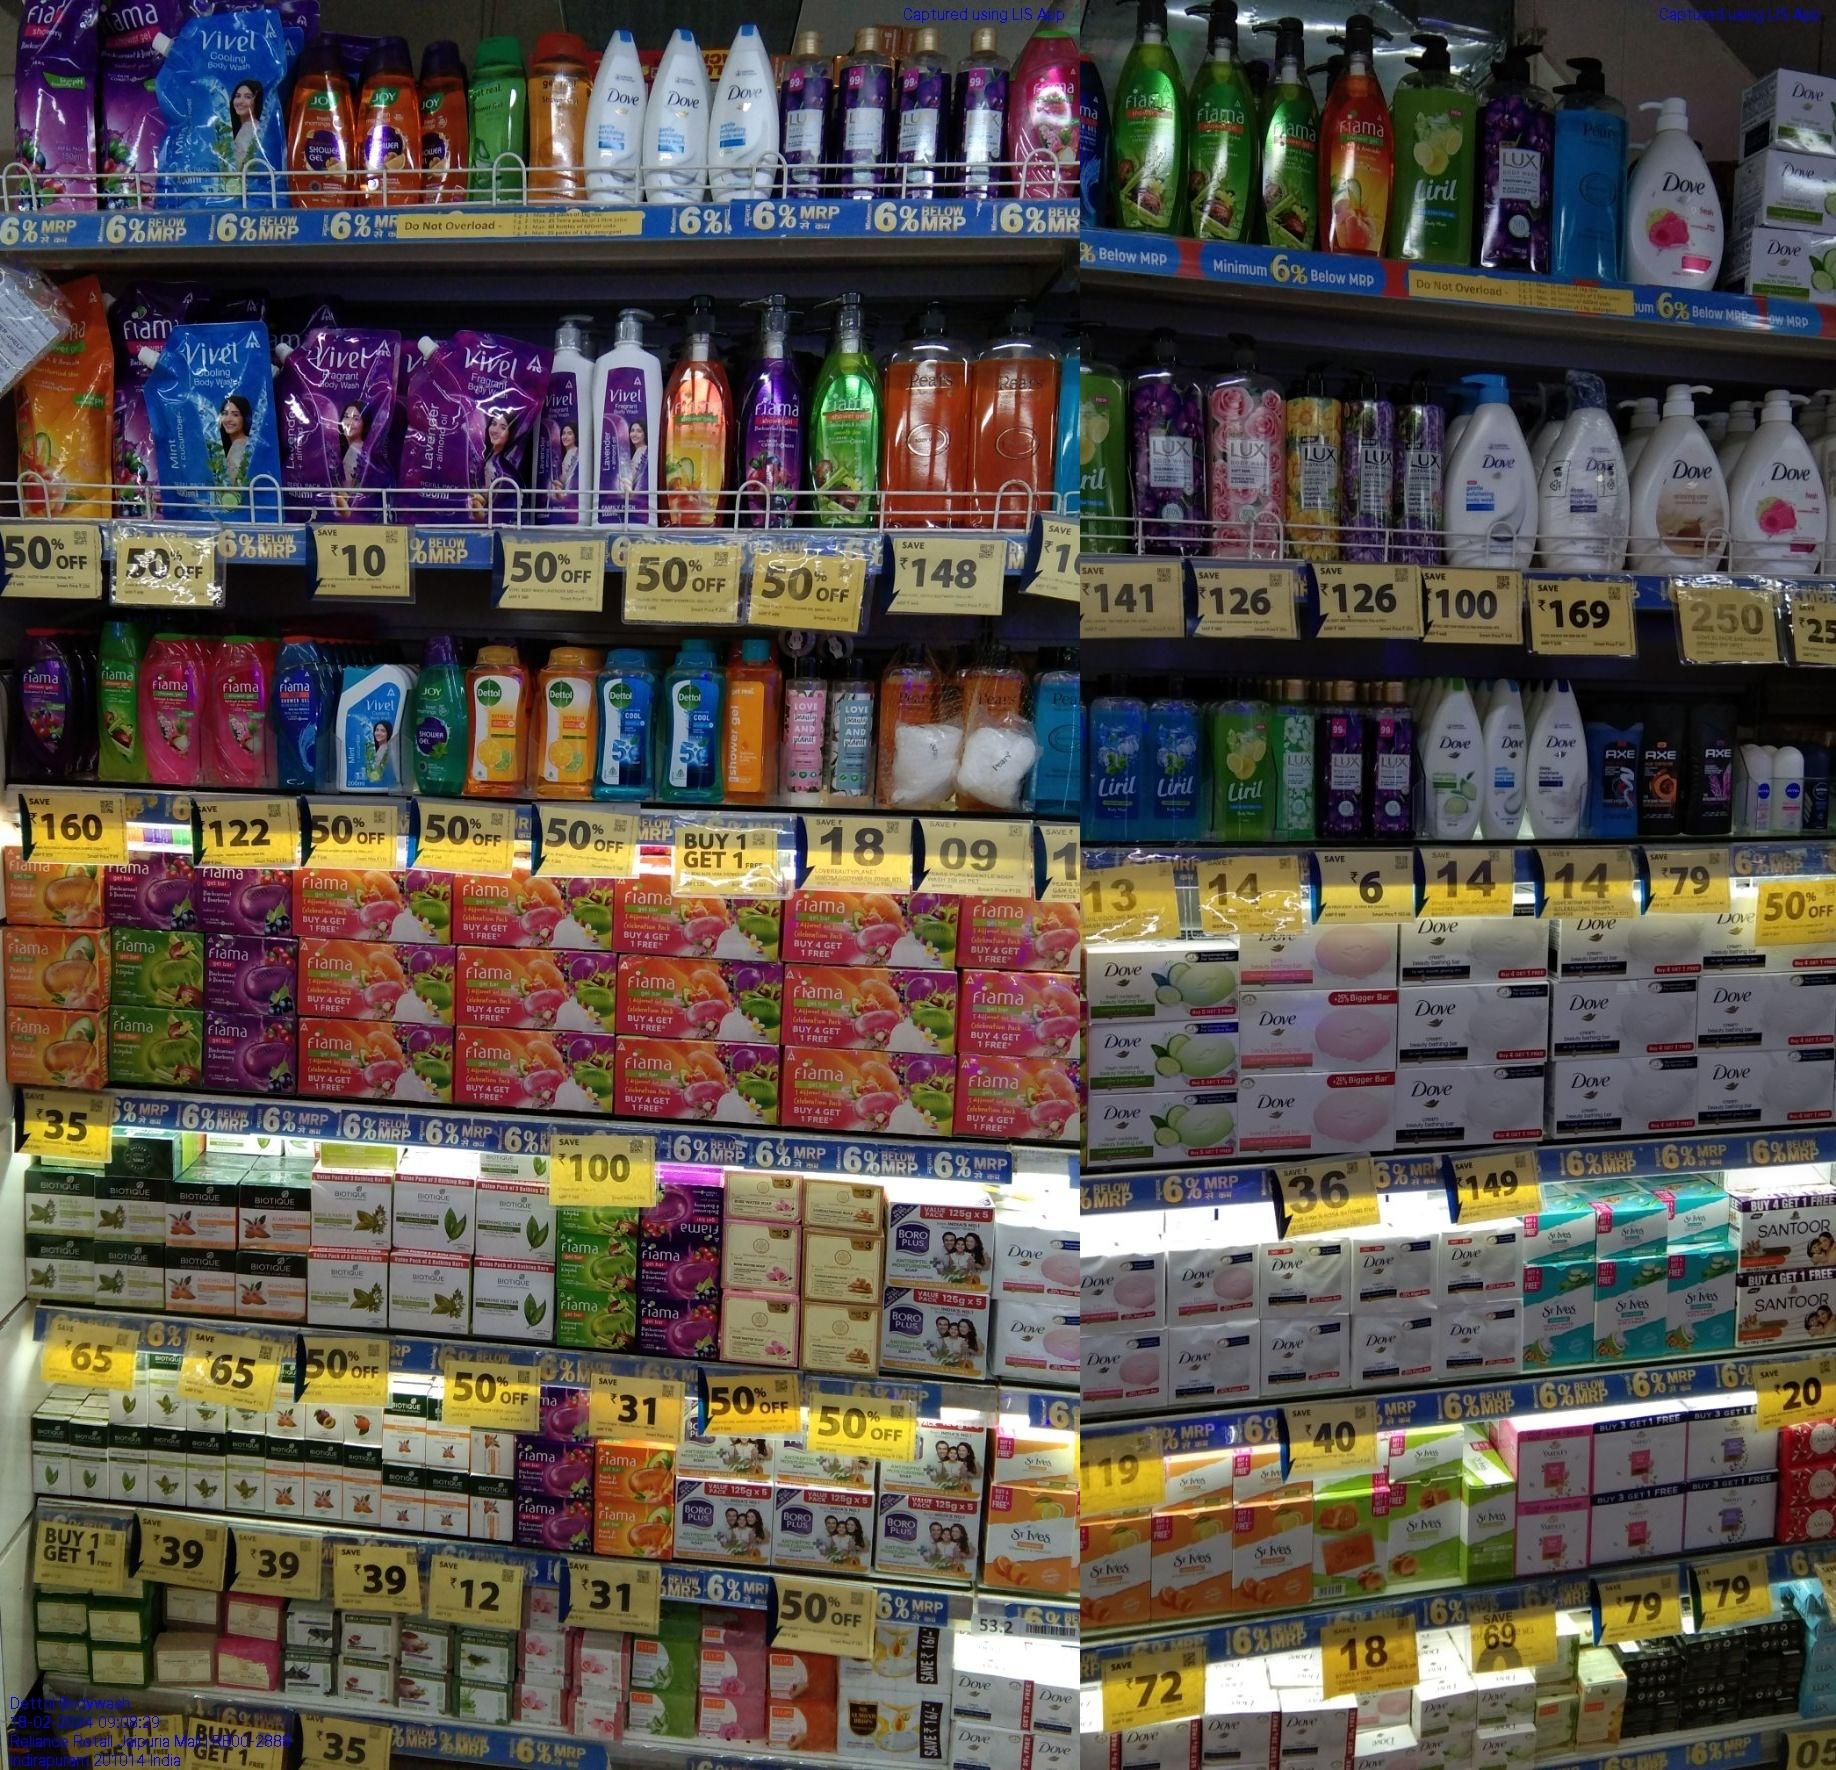Dettol_Bodywash_Cool: (661, 641, 723, 798), (598, 646, 657, 798)
Dettol_Bodywash_Refresh: (529, 644, 595, 800), (469, 642, 523, 793)
Dove_Deep_Moisture_Body_Wash_250ML: (711, 20, 777, 197), (1529, 675, 1584, 837)
Dove_Gentle_Exfoliating_Body_Wash_250ML: (649, 21, 708, 202), (585, 25, 643, 208), (1484, 678, 1528, 839)
Dove_Refreshing_Body_Wash_250ML: (1428, 677, 1482, 837)
Fiama_Shower_Gel_Lemongrass_and_Jojoba_250ML: (97, 616, 141, 782)
Fiama_Shower_Gel_Patchouli_and_Macadamia_250ML: (1015, 31, 1075, 195), (207, 636, 270, 787), (144, 634, 200, 782)
Get_Real_Shower_Gel_Moisturising_Glycerin_300ML: (529, 34, 580, 203)
Joy_Shower_Gel_Mandarin_and_Lemongrass_250ML: (293, 39, 354, 206), (361, 33, 418, 205), (423, 38, 469, 205)
Joy_Shower_Gel_Mint_and_Eucalyptus_250ML: (415, 634, 466, 793)
Liril_Cooling_Mint_Body_Wash_250ML: (1144, 683, 1202, 839), (1092, 675, 1139, 842)
Liril_Lime_and_Tea_Tree_Oil_Body_Wash_250ML: (1213, 685, 1275, 842)
Lux_Black_Orchid_Scent_and_Juniper_Oil_Body_Wash_245ML: (952, 25, 1007, 208), (836, 28, 888, 202), (898, 25, 944, 193), (1367, 677, 1415, 836), (785, 33, 829, 202), (1321, 682, 1366, 836)
Lux_Body_Wash_Skin_Detox_Freesia_Scent_and_Alove_Vera_245ML: (1274, 675, 1320, 837)
Pears_Pure_Glycerin_and_Mint_Extracts_Body_Wash_250ML: (1034, 649, 1080, 815)
